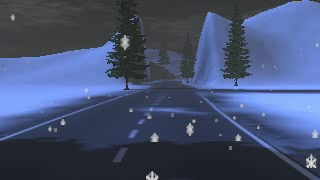Lane: (0, 81, 319, 178)
